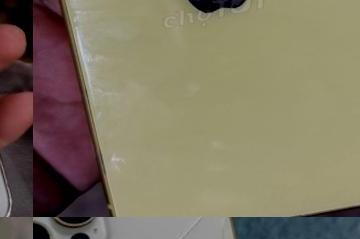physical_damage: (33, 217, 278, 239)
